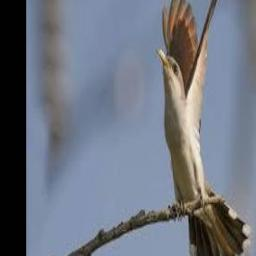Cuckoo: (156, 0, 251, 256)
